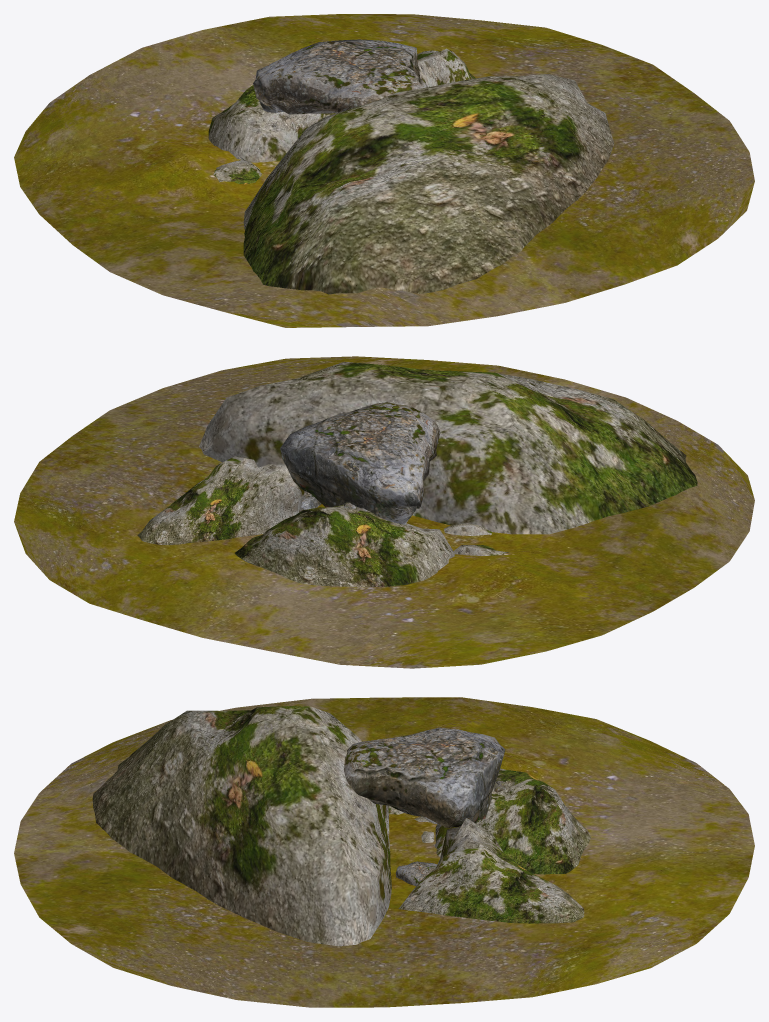
The model's file is Tupa_test_1.gltf.
3 views of the same model, one above another, from view 1: azimuth 30°, elevation 25°; view 2: azimuth 150°, elevation 25°; view 3: azimuth 270°, elevation 25° (orthographic). The views are drawn at different scales.
Visible parts, largest first — view 1: Plane, Rock-21.001, Rock-14, Rock-21.000, Rock-21.009, Rock-21.003, Rock-14.015; view 2: Plane, Rock-21.001, Rock-14, Rock-21.000, Rock-21.009, Rock-14.015; view 3: Plane, Rock-21.001, Rock-14, Rock-21.009, Rock-21.000, Rock-14.001.
Part boxes in pixels (x1,y1,x2,y2): Plane: (14,14,754,327); Rock-21.001: (243,74,614,294); Rock-14: (253,39,427,112); Rock-21.000: (208,85,335,162); Rock-21.009: (417,48,475,87); Rock-21.003: (213,160,261,184); Rock-14.015: (259,101,337,114); Plane: (14,356,754,668); Rock-21.001: (199,361,697,534); Rock-14: (280,402,440,508); Rock-21.000: (235,504,454,586); Rock-21.009: (137,456,304,544); Rock-14.015: (355,502,416,524); Plane: (14,697,754,1007); Rock-21.001: (92,706,391,946); Rock-14: (344,727,505,827); Rock-21.009: (398,818,584,923); Rock-21.000: (434,768,590,874); Rock-14.001: (395,861,437,885).
Size of the model in its own units: 2.6 by 0.4596 by 2.63.
3 materials, 3 textured.
